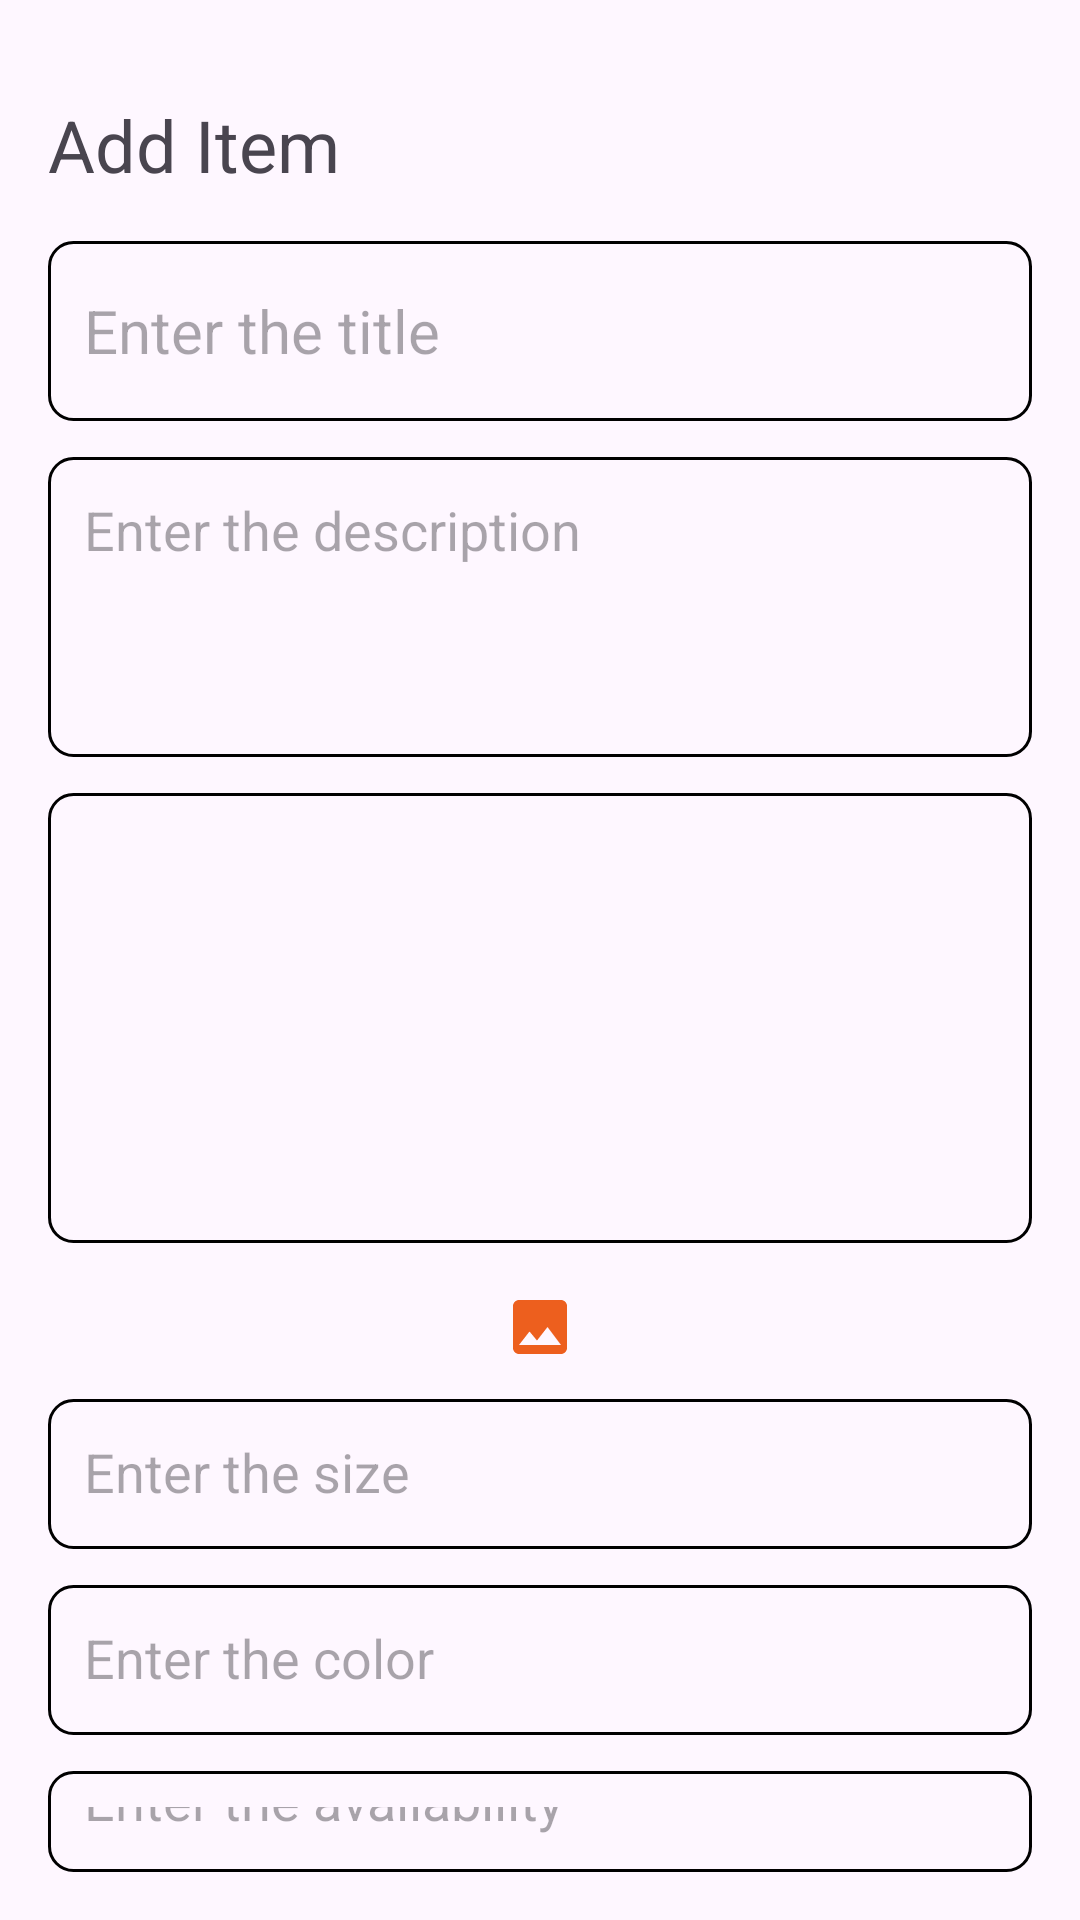

Locate icon controls on the screen. Image size 1080w x 1920h, boxes as (x1, y1, x2, y2).
Select Image: (513, 1300, 567, 1354)
